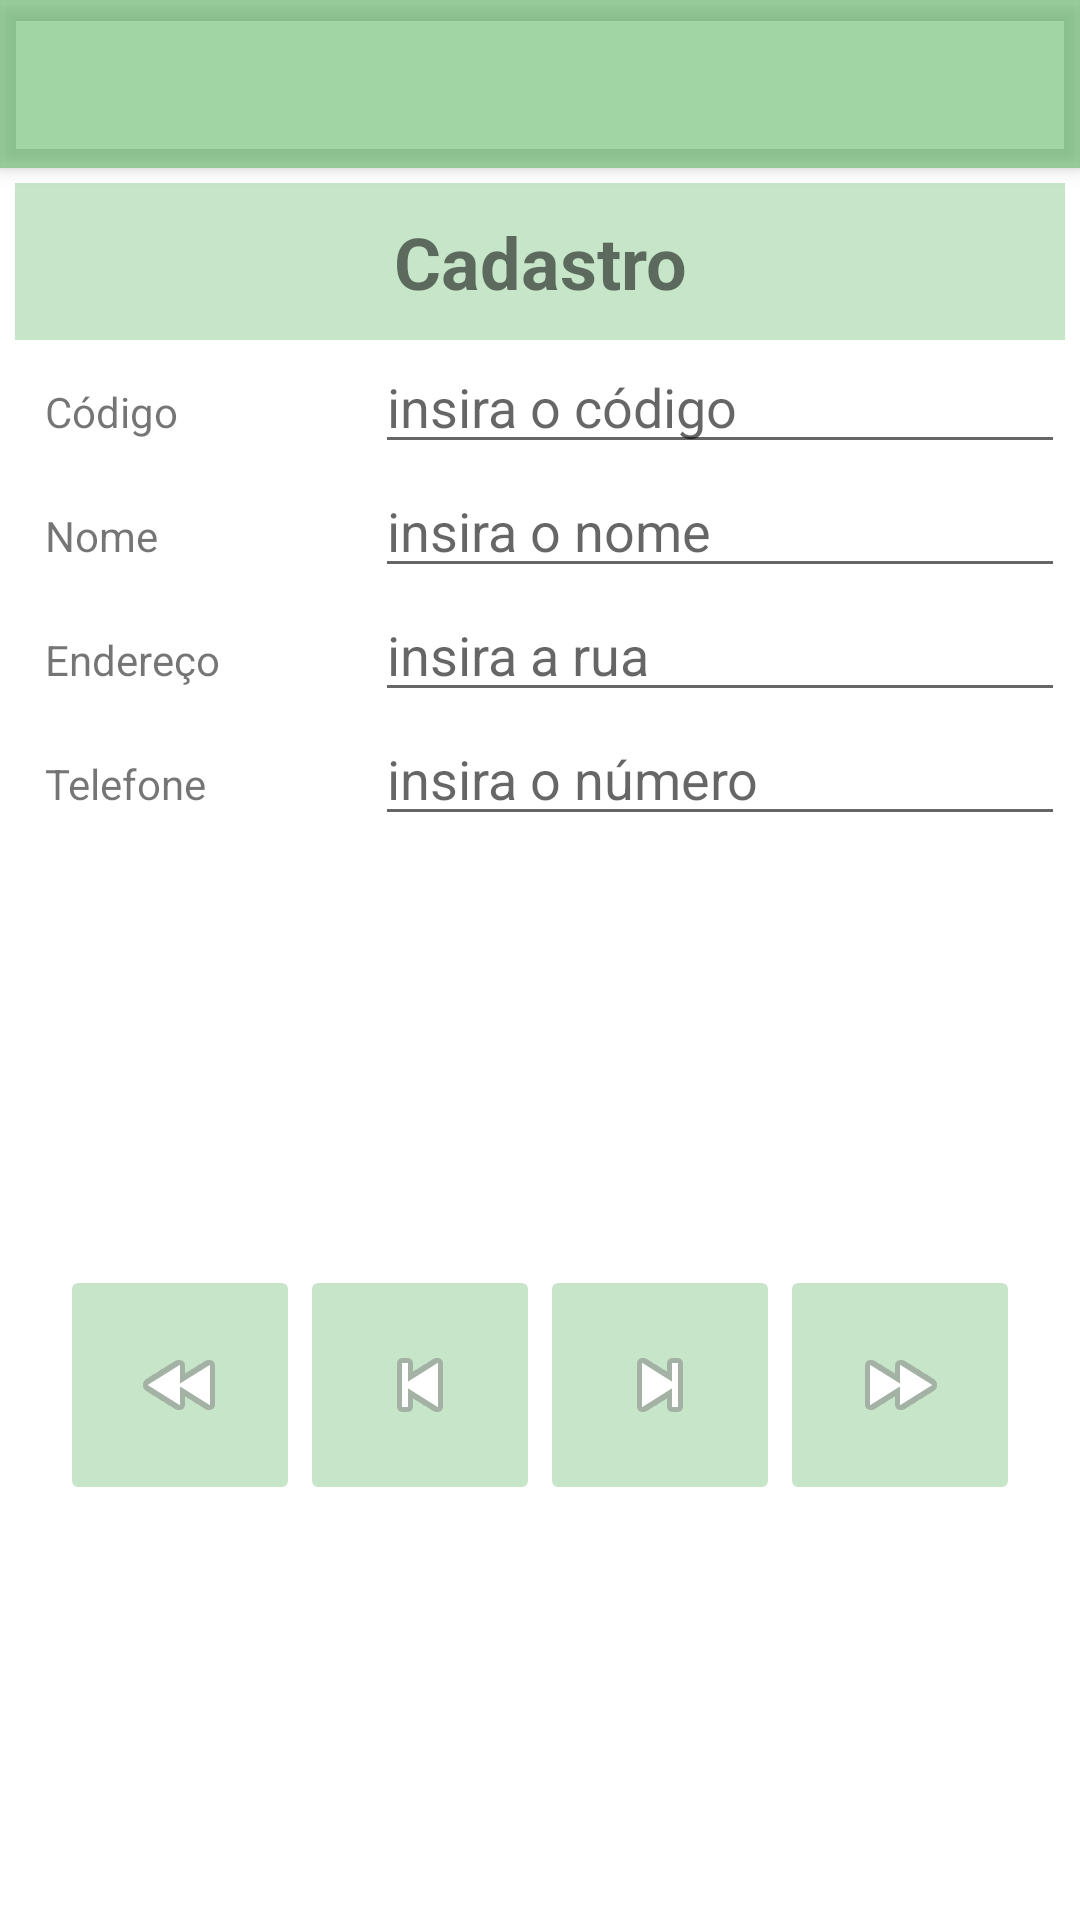

Where icons sit on this 1080×1920 app screen, as Rect(x1, y1, x2, y2):
Botão Anterior: Rect(312, 1283, 528, 1487)
Botão Primeiro: Rect(72, 1283, 288, 1487)
Botão Próximo: Rect(552, 1283, 768, 1487)
Botão Último: Rect(792, 1283, 1008, 1487)
